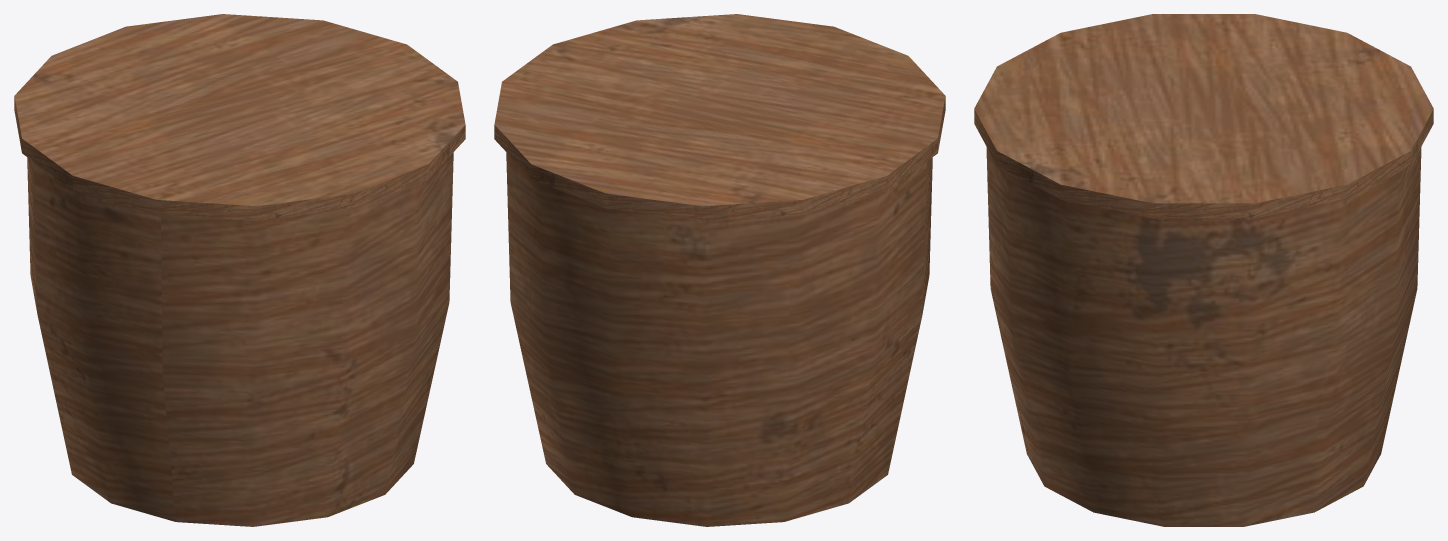
Rendered from SM_basket_01.glb.
3 renders of one model, left to right at view 1: azimuth 30°, elevation 25°; view 2: azimuth 150°, elevation 25°; view 3: azimuth 270°, elevation 25°, orthographic.
Parts seen in each view (by area): view 1: SM_basket_01; view 2: SM_basket_01; view 3: SM_basket_01.
Part boxes in pixels (x1,y1,x2,y2): SM_basket_01: (14, 14, 465, 526); SM_basket_01: (494, 14, 945, 526); SM_basket_01: (974, 14, 1433, 526).
Size of the model in its own units: 1.03 by 0.8745 by 1.05.
Materials: 1 (1 with a texture image).
